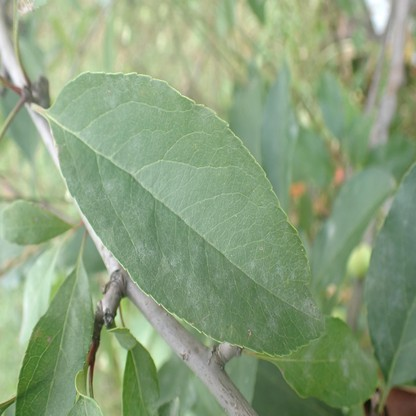powdery_mildew: (62, 166, 325, 348), (365, 179, 416, 365), (102, 74, 206, 116), (329, 340, 378, 391), (301, 350, 314, 383)
